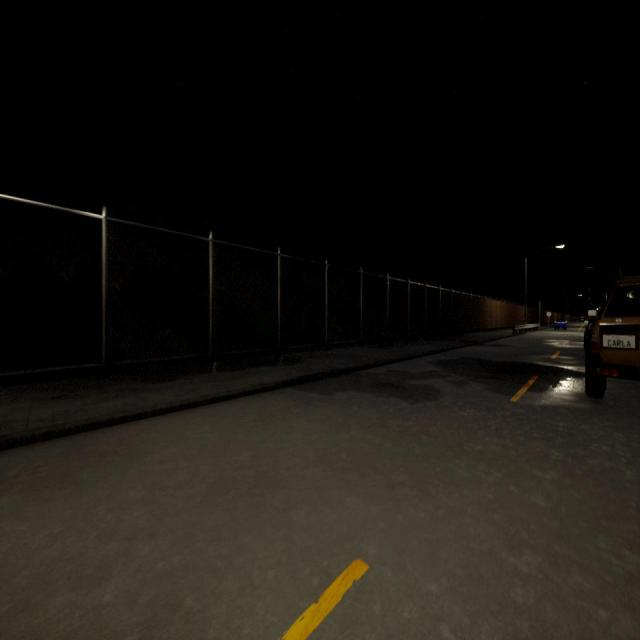Traffic_Signs: (546, 311, 551, 318)
Vehicle: (584, 276, 640, 398), (554, 318, 568, 331)
